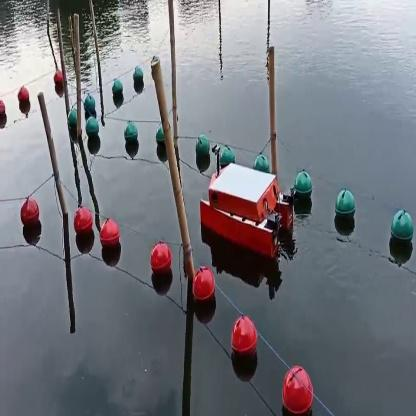green_buoy: (390, 208, 415, 252), (292, 166, 314, 209), (337, 190, 356, 224), (80, 116, 100, 145), (123, 116, 138, 152), (198, 132, 212, 168), (254, 148, 274, 173), (220, 142, 237, 165), (64, 104, 79, 128), (156, 126, 165, 158), (113, 81, 126, 99), (86, 98, 98, 113), (136, 68, 143, 86)
red_buoy: (280, 363, 314, 415), (230, 314, 258, 364), (190, 267, 218, 311), (15, 197, 44, 234), (74, 202, 96, 244), (150, 240, 172, 281), (100, 217, 119, 253), (18, 88, 30, 106), (0, 98, 6, 126), (55, 71, 63, 89)
